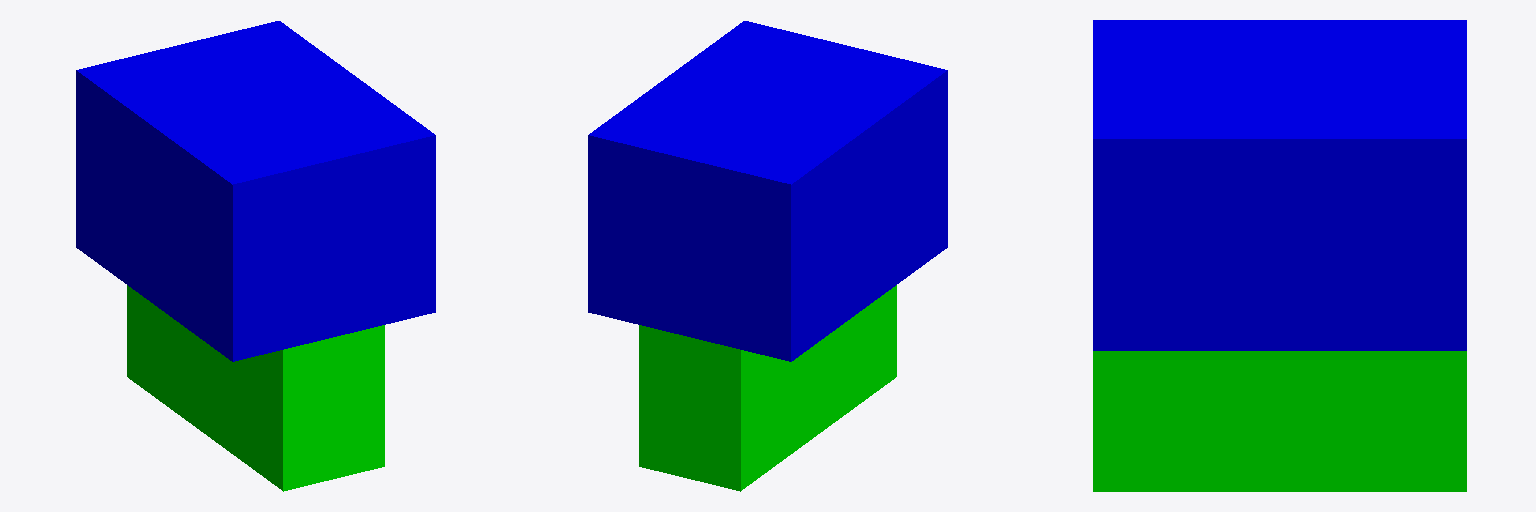
The robot description file, URDF, robot "robot":
<robot name = "robot">
    <link name="root">
        <inertial>
            <origin xyz="0.0 0.0 1.5" rpy="0 0 0"/>
            <mass value="1" />
            <inertia ixx="100" ixy="0" ixz="0" iyy="100" iyz="0" izz="100" />
        </inertial>
        <visual>
            <origin xyz="0.0 0.0 1.5" rpy="0 0 0"/>
            <geometry>
                <box size="0 0 0.0001" />
            </geometry>
            <material name="Green">
                <color rgba="0 1.0 0.0 1.0"/>
            </material>
        </visual>
        <collision>
            <origin xyz="0.0 0.0 1.5" rpy="0 0 0"/>
            <geometry>
                <box size="0 0 0.0001" />
            </geometry>
        </collision>
    </link>
    <joint name="root_000" type="revolute">
       <parent link="root"/>
       <child  link="000"/>
       <origin rpy="0 0 0" xyz="0.0 0.0 1.5" />
     <axis xyz="1 0 0"/>
       <limit effort="0.0" lower="-3.14159" upper="3.14159" velocity="0.0"/>
    </joint>
    <link name="000">
        <inertial>
            <origin xyz="0.0 0.1 0.0" rpy="0 0 0"/>
            <mass value="1" />
            <inertia ixx="100" ixy="0" ixz="0" iyy="100" iyz="0" izz="100" />
        </inertial>
        <visual>
            <origin xyz="0.0 0.1 0.0" rpy="0 0 0"/>
            <geometry>
                <box size="0.6 0.2 0.5" />
            </geometry>
            <material name="Blue">
                <color rgba="0 0.0 1.0 1.0"/>
            </material>
        </visual>
        <collision>
            <origin xyz="0.0 0.1 0.0" rpy="0 0 0"/>
            <geometry>
                <box size="0.6 0.2 0.5" />
            </geometry>
        </collision>
    </link>
    <joint name="000_010" type="revolute">
       <parent link="000"/>
       <child  link="010"/>
       <origin rpy="0 0 0" xyz="0.0 0.2 -0.0" />
     <axis xyz="0 1 0"/>
       <limit effort="0.0" lower="-3.14159" upper="3.14159" velocity="0.0"/>
    </joint>
    <link name="010">
        <inertial>
            <origin xyz="0.0 0.1 -0.0" rpy="0 0 0"/>
            <mass value="1" />
            <inertia ixx="100" ixy="0" ixz="0" iyy="100" iyz="0" izz="100" />
        </inertial>
        <visual>
            <origin xyz="0.0 0.1 -0.0" rpy="0 0 0"/>
            <geometry>
                <box size="0.6 0.2 0.5" />
            </geometry>
            <material name="Blue">
                <color rgba="0 0.0 1.0 1.0"/>
            </material>
        </visual>
        <collision>
            <origin xyz="0.0 0.1 -0.0" rpy="0 0 0"/>
            <geometry>
                <box size="0.6 0.2 0.5" />
            </geometry>
        </collision>
    </link>
    <joint name="010_020" type="revolute">
       <parent link="010"/>
       <child  link="020"/>
       <origin rpy="0 0 0" xyz="0.0 0.2 -0.0" />
     <axis xyz="0 1 0"/>
       <limit effort="0.0" lower="-3.14159" upper="3.14159" velocity="0.0"/>
    </joint>
    <link name="020">
        <inertial>
            <origin xyz="0.0 0.1 -0.0" rpy="0 0 0"/>
            <mass value="1" />
            <inertia ixx="100" ixy="0" ixz="0" iyy="100" iyz="0" izz="100" />
        </inertial>
        <visual>
            <origin xyz="0.0 0.1 -0.0" rpy="0 0 0"/>
            <geometry>
                <box size="0.6 0.2 0.5" />
            </geometry>
            <material name="Blue">
                <color rgba="0 0.0 1.0 1.0"/>
            </material>
        </visual>
        <collision>
            <origin xyz="0.0 0.1 -0.0" rpy="0 0 0"/>
            <geometry>
                <box size="0.6 0.2 0.5" />
            </geometry>
        </collision>
    </link>
    <joint name="020_030" type="revolute">
       <parent link="020"/>
       <child  link="030"/>
       <origin rpy="0 0 0" xyz="0.0 0.2 -0.0" />
     <axis xyz="0 1 0"/>
       <limit effort="0.0" lower="-3.14159" upper="3.14159" velocity="0.0"/>
    </joint>
    <link name="030">
        <inertial>
            <origin xyz="0.0 0.1 -0.0" rpy="0 0 0"/>
            <mass value="1" />
            <inertia ixx="100" ixy="0" ixz="0" iyy="100" iyz="0" izz="100" />
        </inertial>
        <visual>
            <origin xyz="0.0 0.1 -0.0" rpy="0 0 0"/>
            <geometry>
                <box size="0.6 0.2 0.5" />
            </geometry>
            <material name="Blue">
                <color rgba="0 0.0 1.0 1.0"/>
            </material>
        </visual>
        <collision>
            <origin xyz="0.0 0.1 -0.0" rpy="0 0 0"/>
            <geometry>
                <box size="0.6 0.2 0.5" />
            </geometry>
        </collision>
    </link>
    <joint name="030_030-100" type="revolute">
       <parent link="030"/>
       <child  link="030-100"/>
       <origin rpy="0 0 0" xyz="0.0 0.1 -0.25" />
     <axis xyz="0 0 1"/>
       <limit effort="0.0" lower="-3.14159" upper="3.14159" velocity="0.0"/>
    </joint>
    <link name="030-100">
        <inertial>
            <origin xyz="0.0 0.0 -0.2" rpy="0 0 0"/>
            <mass value="1" />
            <inertia ixx="100" ixy="0" ixz="0" iyy="100" iyz="0" izz="100" />
        </inertial>
        <visual>
            <origin xyz="0.0 0.0 -0.2" rpy="0 0 0"/>
            <geometry>
                <box size="0.3 0.2 0.4" />
            </geometry>
            <material name="Green">
                <color rgba="0 1.0 0.0 1.0"/>
            </material>
        </visual>
        <collision>
            <origin xyz="0.0 0.0 -0.2" rpy="0 0 0"/>
            <geometry>
                <box size="0.3 0.2 0.4" />
            </geometry>
        </collision>
    </link>
    <joint name="020_020-100" type="revolute">
       <parent link="020"/>
       <child  link="020-100"/>
       <origin rpy="0 0 0" xyz="0.0 0.1 -0.25" />
     <axis xyz="0 0 1"/>
       <limit effort="0.0" lower="-3.14159" upper="3.14159" velocity="0.0"/>
    </joint>
    <link name="020-100">
        <inertial>
            <origin xyz="0.0 0.0 -0.2" rpy="0 0 0"/>
            <mass value="1" />
            <inertia ixx="100" ixy="0" ixz="0" iyy="100" iyz="0" izz="100" />
        </inertial>
        <visual>
            <origin xyz="0.0 0.0 -0.2" rpy="0 0 0"/>
            <geometry>
                <box size="0.3 0.2 0.4" />
            </geometry>
            <material name="Green">
                <color rgba="0 1.0 0.0 1.0"/>
            </material>
        </visual>
        <collision>
            <origin xyz="0.0 0.0 -0.2" rpy="0 0 0"/>
            <geometry>
                <box size="0.3 0.2 0.4" />
            </geometry>
        </collision>
    </link>
    <joint name="010_010-100" type="revolute">
       <parent link="010"/>
       <child  link="010-100"/>
       <origin rpy="0 0 0" xyz="0.0 0.1 -0.25" />
     <axis xyz="0 0 1"/>
       <limit effort="0.0" lower="-3.14159" upper="3.14159" velocity="0.0"/>
    </joint>
    <link name="010-100">
        <inertial>
            <origin xyz="0.0 0.0 -0.2" rpy="0 0 0"/>
            <mass value="1" />
            <inertia ixx="100" ixy="0" ixz="0" iyy="100" iyz="0" izz="100" />
        </inertial>
        <visual>
            <origin xyz="0.0 0.0 -0.2" rpy="0 0 0"/>
            <geometry>
                <box size="0.3 0.2 0.4" />
            </geometry>
            <material name="Green">
                <color rgba="0 1.0 0.0 1.0"/>
            </material>
        </visual>
        <collision>
            <origin xyz="0.0 0.0 -0.2" rpy="0 0 0"/>
            <geometry>
                <box size="0.3 0.2 0.4" />
            </geometry>
        </collision>
    </link>
    <joint name="000_000-100" type="revolute">
       <parent link="000"/>
       <child  link="000-100"/>
       <origin rpy="0 0 0" xyz="0.0 0.1 -0.25" />
     <axis xyz="0 0 1"/>
       <limit effort="0.0" lower="-3.14159" upper="3.14159" velocity="0.0"/>
    </joint>
    <link name="000-100">
        <inertial>
            <origin xyz="0.0 0.0 -0.2" rpy="0 0 0"/>
            <mass value="1" />
            <inertia ixx="100" ixy="0" ixz="0" iyy="100" iyz="0" izz="100" />
        </inertial>
        <visual>
            <origin xyz="0.0 0.0 -0.2" rpy="0 0 0"/>
            <geometry>
                <box size="0.3 0.2 0.4" />
            </geometry>
            <material name="Green">
                <color rgba="0 1.0 0.0 1.0"/>
            </material>
        </visual>
        <collision>
            <origin xyz="0.0 0.0 -0.2" rpy="0 0 0"/>
            <geometry>
                <box size="0.3 0.2 0.4" />
            </geometry>
        </collision>
    </link>
</robot>

--- Facts derived from the render (not from the file) ---
3 views of the same robot in one strip: view 1: azimuth 30°, elevation 25°; view 2: azimuth 150°, elevation 25°; view 3: azimuth 270°, elevation 25° (orthographic).
Model robot with 9 links and 8 joints (8 revolute), rooted at root, posed all joints at 0.
Links seen in each view (by area): view 1: 000, 000-100, 010, 020, 030, 010-100, 030-100, 020-100; view 2: 030, 030-100, 020, 010, 000, 020-100, 010-100, 000-100; view 3: 010, 020, 000, 030, 020-100, 010-100, 030-100, 000-100.
Link boxes in pixels (<box>): 000: <box>193,107,435,361</box>; 000-100: <box>244,325,384,491</box>; 010: <box>154,78,396,332</box>; 020: <box>115,49,356,303</box>; 030: <box>76,21,317,275</box>; 010-100: <box>205,342,243,461</box>; 030-100: <box>127,285,165,404</box>; 020-100: <box>166,314,204,433</box>; 030: <box>588,107,830,361</box>; 030-100: <box>639,325,779,491</box>; 020: <box>627,78,869,332</box>; 010: <box>667,49,908,303</box>; 000: <box>706,21,947,275</box>; 020-100: <box>780,342,818,461</box>; 010-100: <box>819,314,857,433</box>; 000-100: <box>858,285,896,404</box>; 010: <box>1186,20,1279,350</box>; 020: <box>1280,20,1373,350</box>; 000: <box>1093,20,1185,350</box>; 030: <box>1374,20,1466,350</box>; 020-100: <box>1280,351,1373,491</box>; 010-100: <box>1186,351,1279,491</box>; 030-100: <box>1374,351,1466,491</box>; 000-100: <box>1093,351,1185,491</box>.
Size in the robot's own frame: 0.6 by 0.8 by 0.9 metres.
Geometry: primitives only (box / cylinder / sphere), no mesh files.
